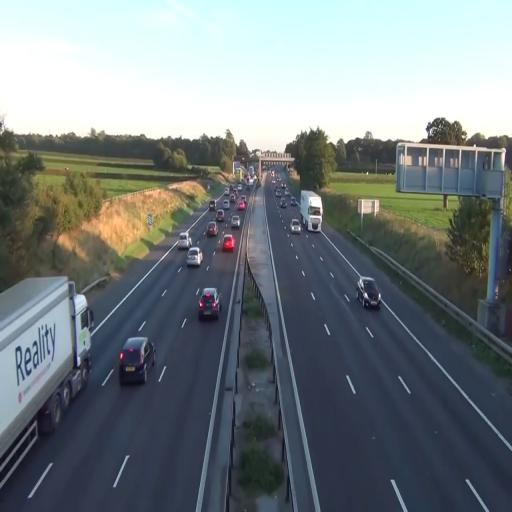vehicle: (0, 275, 93, 490), (118, 336, 156, 386), (300, 189, 323, 233), (301, 191, 323, 232), (356, 276, 382, 310), (198, 284, 220, 321), (186, 246, 204, 268), (220, 232, 236, 254), (177, 232, 191, 250), (290, 216, 302, 234), (207, 221, 218, 238)
